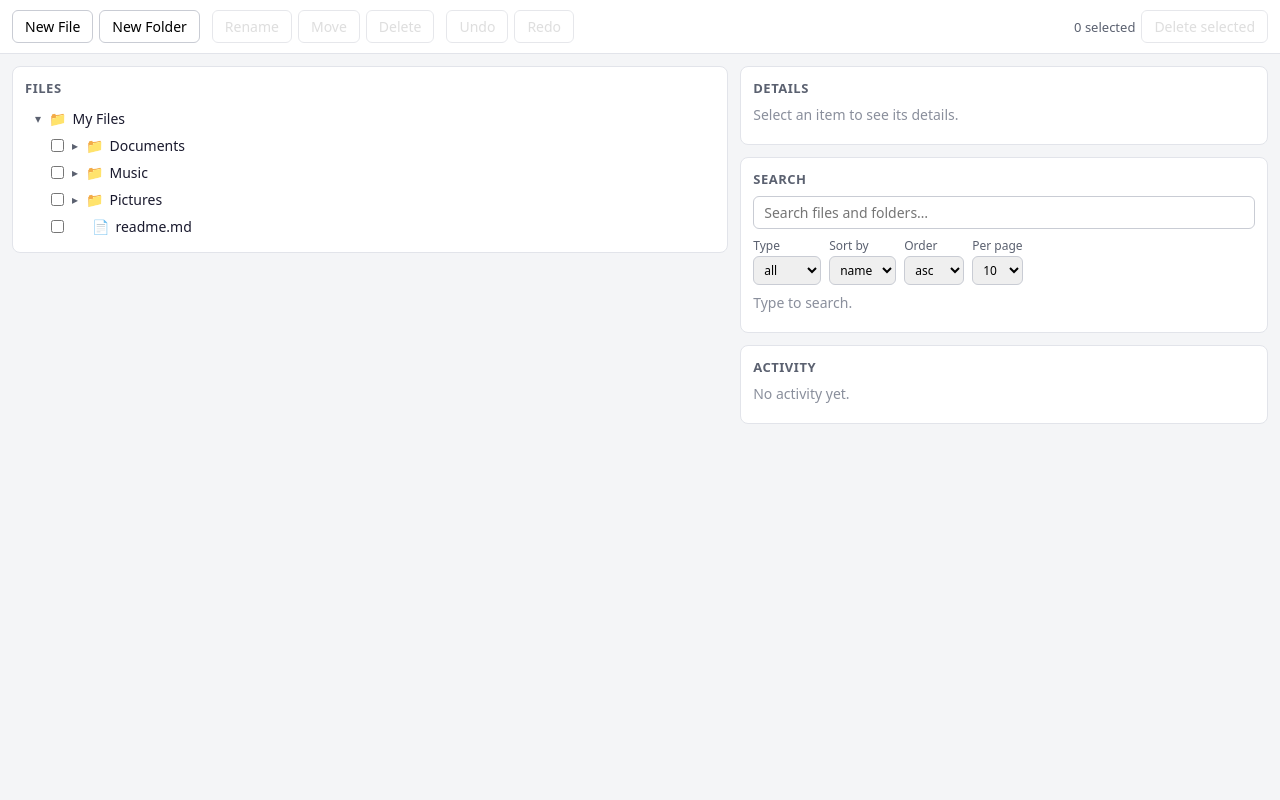
Test: selection consistency › restored folder comes back collapsed after undo of delete
The width and height of the screenshot is (1280, 800).
Click the button named "Expand Documents" at (75, 146), box left=70, top=137, right=80, bottom=154
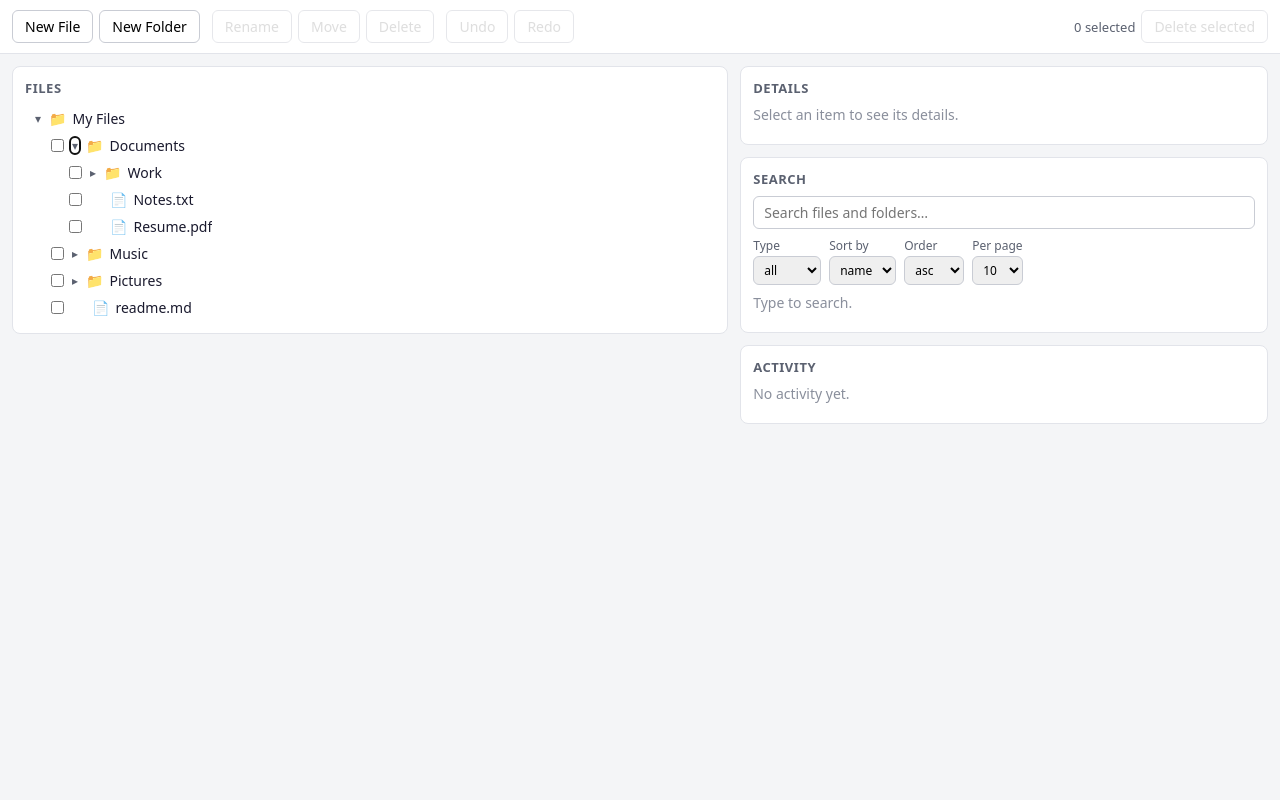
Click the text "Documents" at (147, 146), box left=110, top=136, right=185, bottom=155
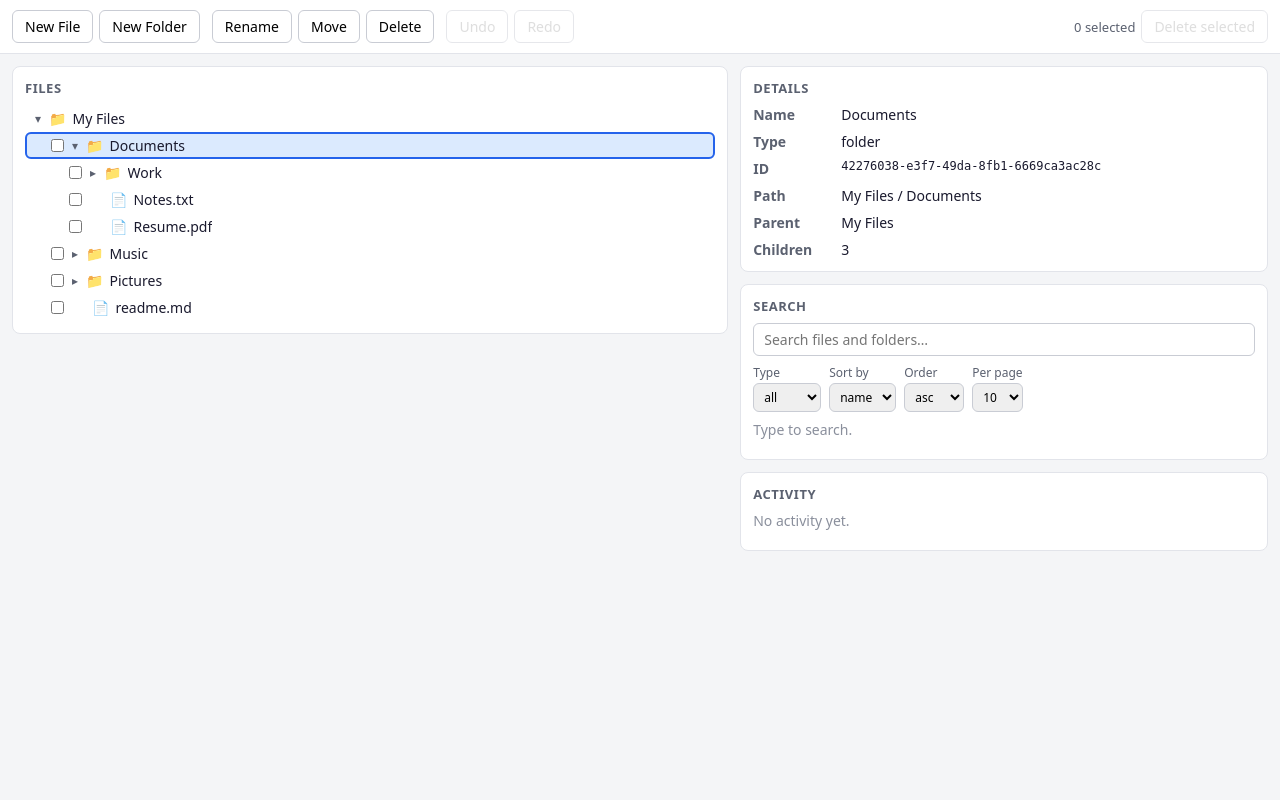
Click the button with test id "delete" at (400, 26), box left=366, top=10, right=434, bottom=43
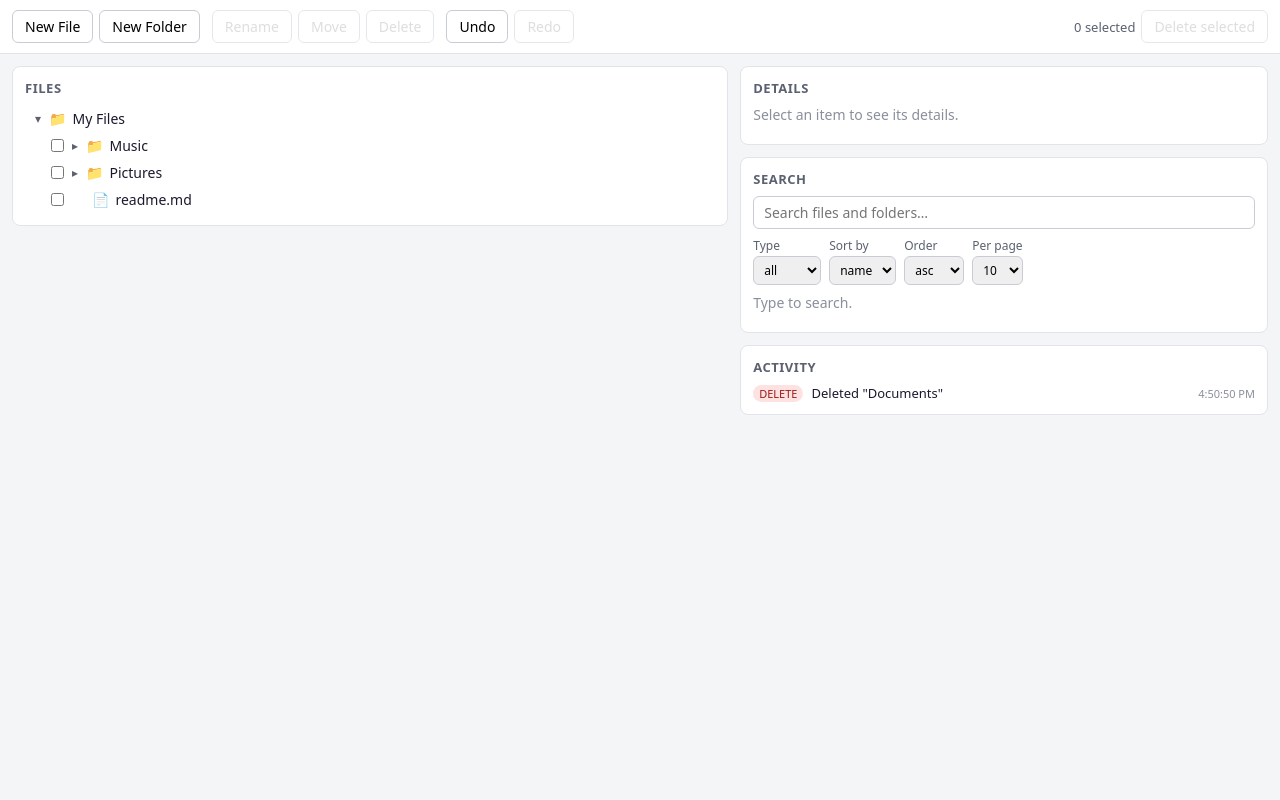
Click the button with test id "undo" at (477, 26), box left=446, top=10, right=508, bottom=43
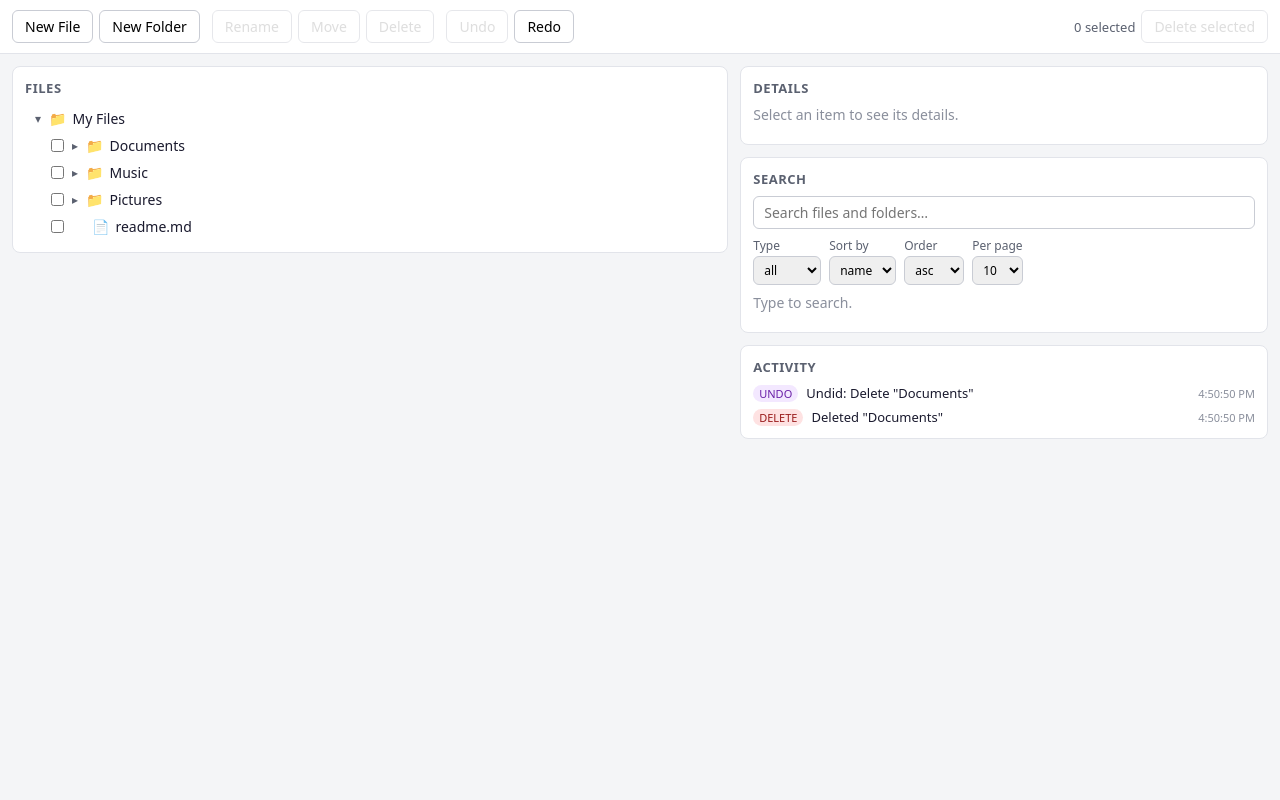
Expected: the text "Resume.pdf" is not shown
Result: the text "Documents" is shown at left=110, top=136, right=185, bottom=155
